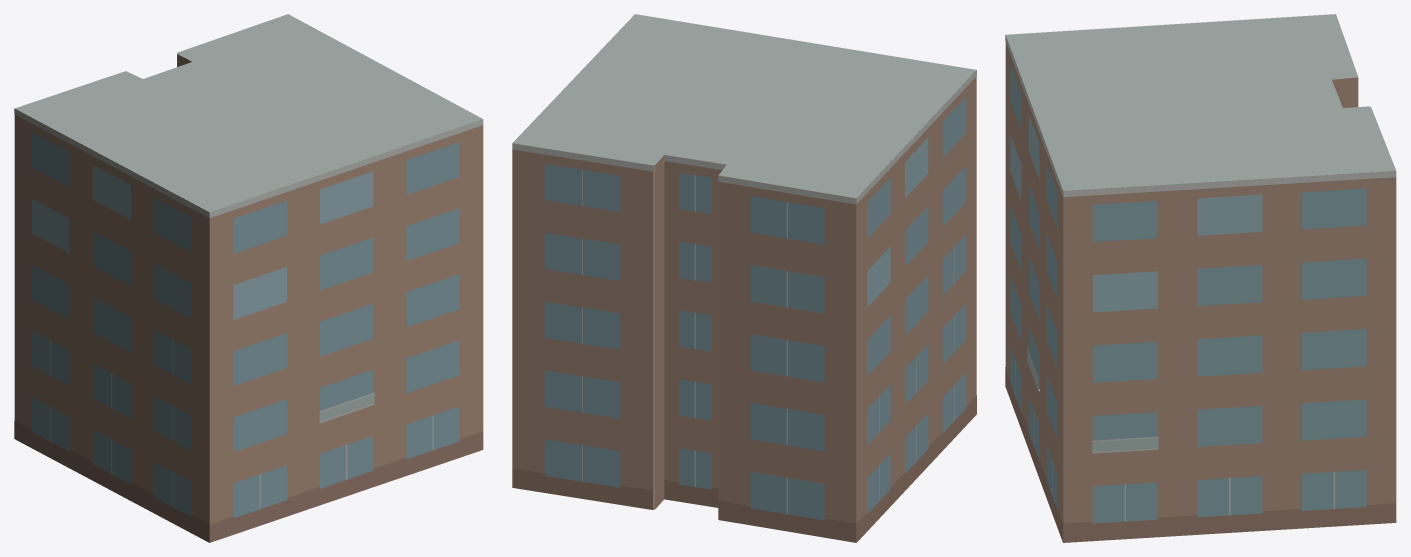
The model's file is survey-upis-32612005.glb.
3 views of the same model, side by side, from view 1: azimuth 30°, elevation 25°; view 2: azimuth 150°, elevation 25°; view 3: azimuth 270°, elevation 25° (orthographic). The views are drawn at different scales.
Parts seen in each view (by area): view 1: survey-upis-32612005.tmp; view 2: survey-upis-32612005.tmp; view 3: survey-upis-32612005.tmp.
Part boxes in pixels (<box>): survey-upis-32612005.tmp: <box>14,14,483,542</box>; survey-upis-32612005.tmp: <box>512,14,976,542</box>; survey-upis-32612005.tmp: <box>1005,14,1396,542</box>.
Size of the model in its own units: 14.68 by 13.6 by 13.7.
